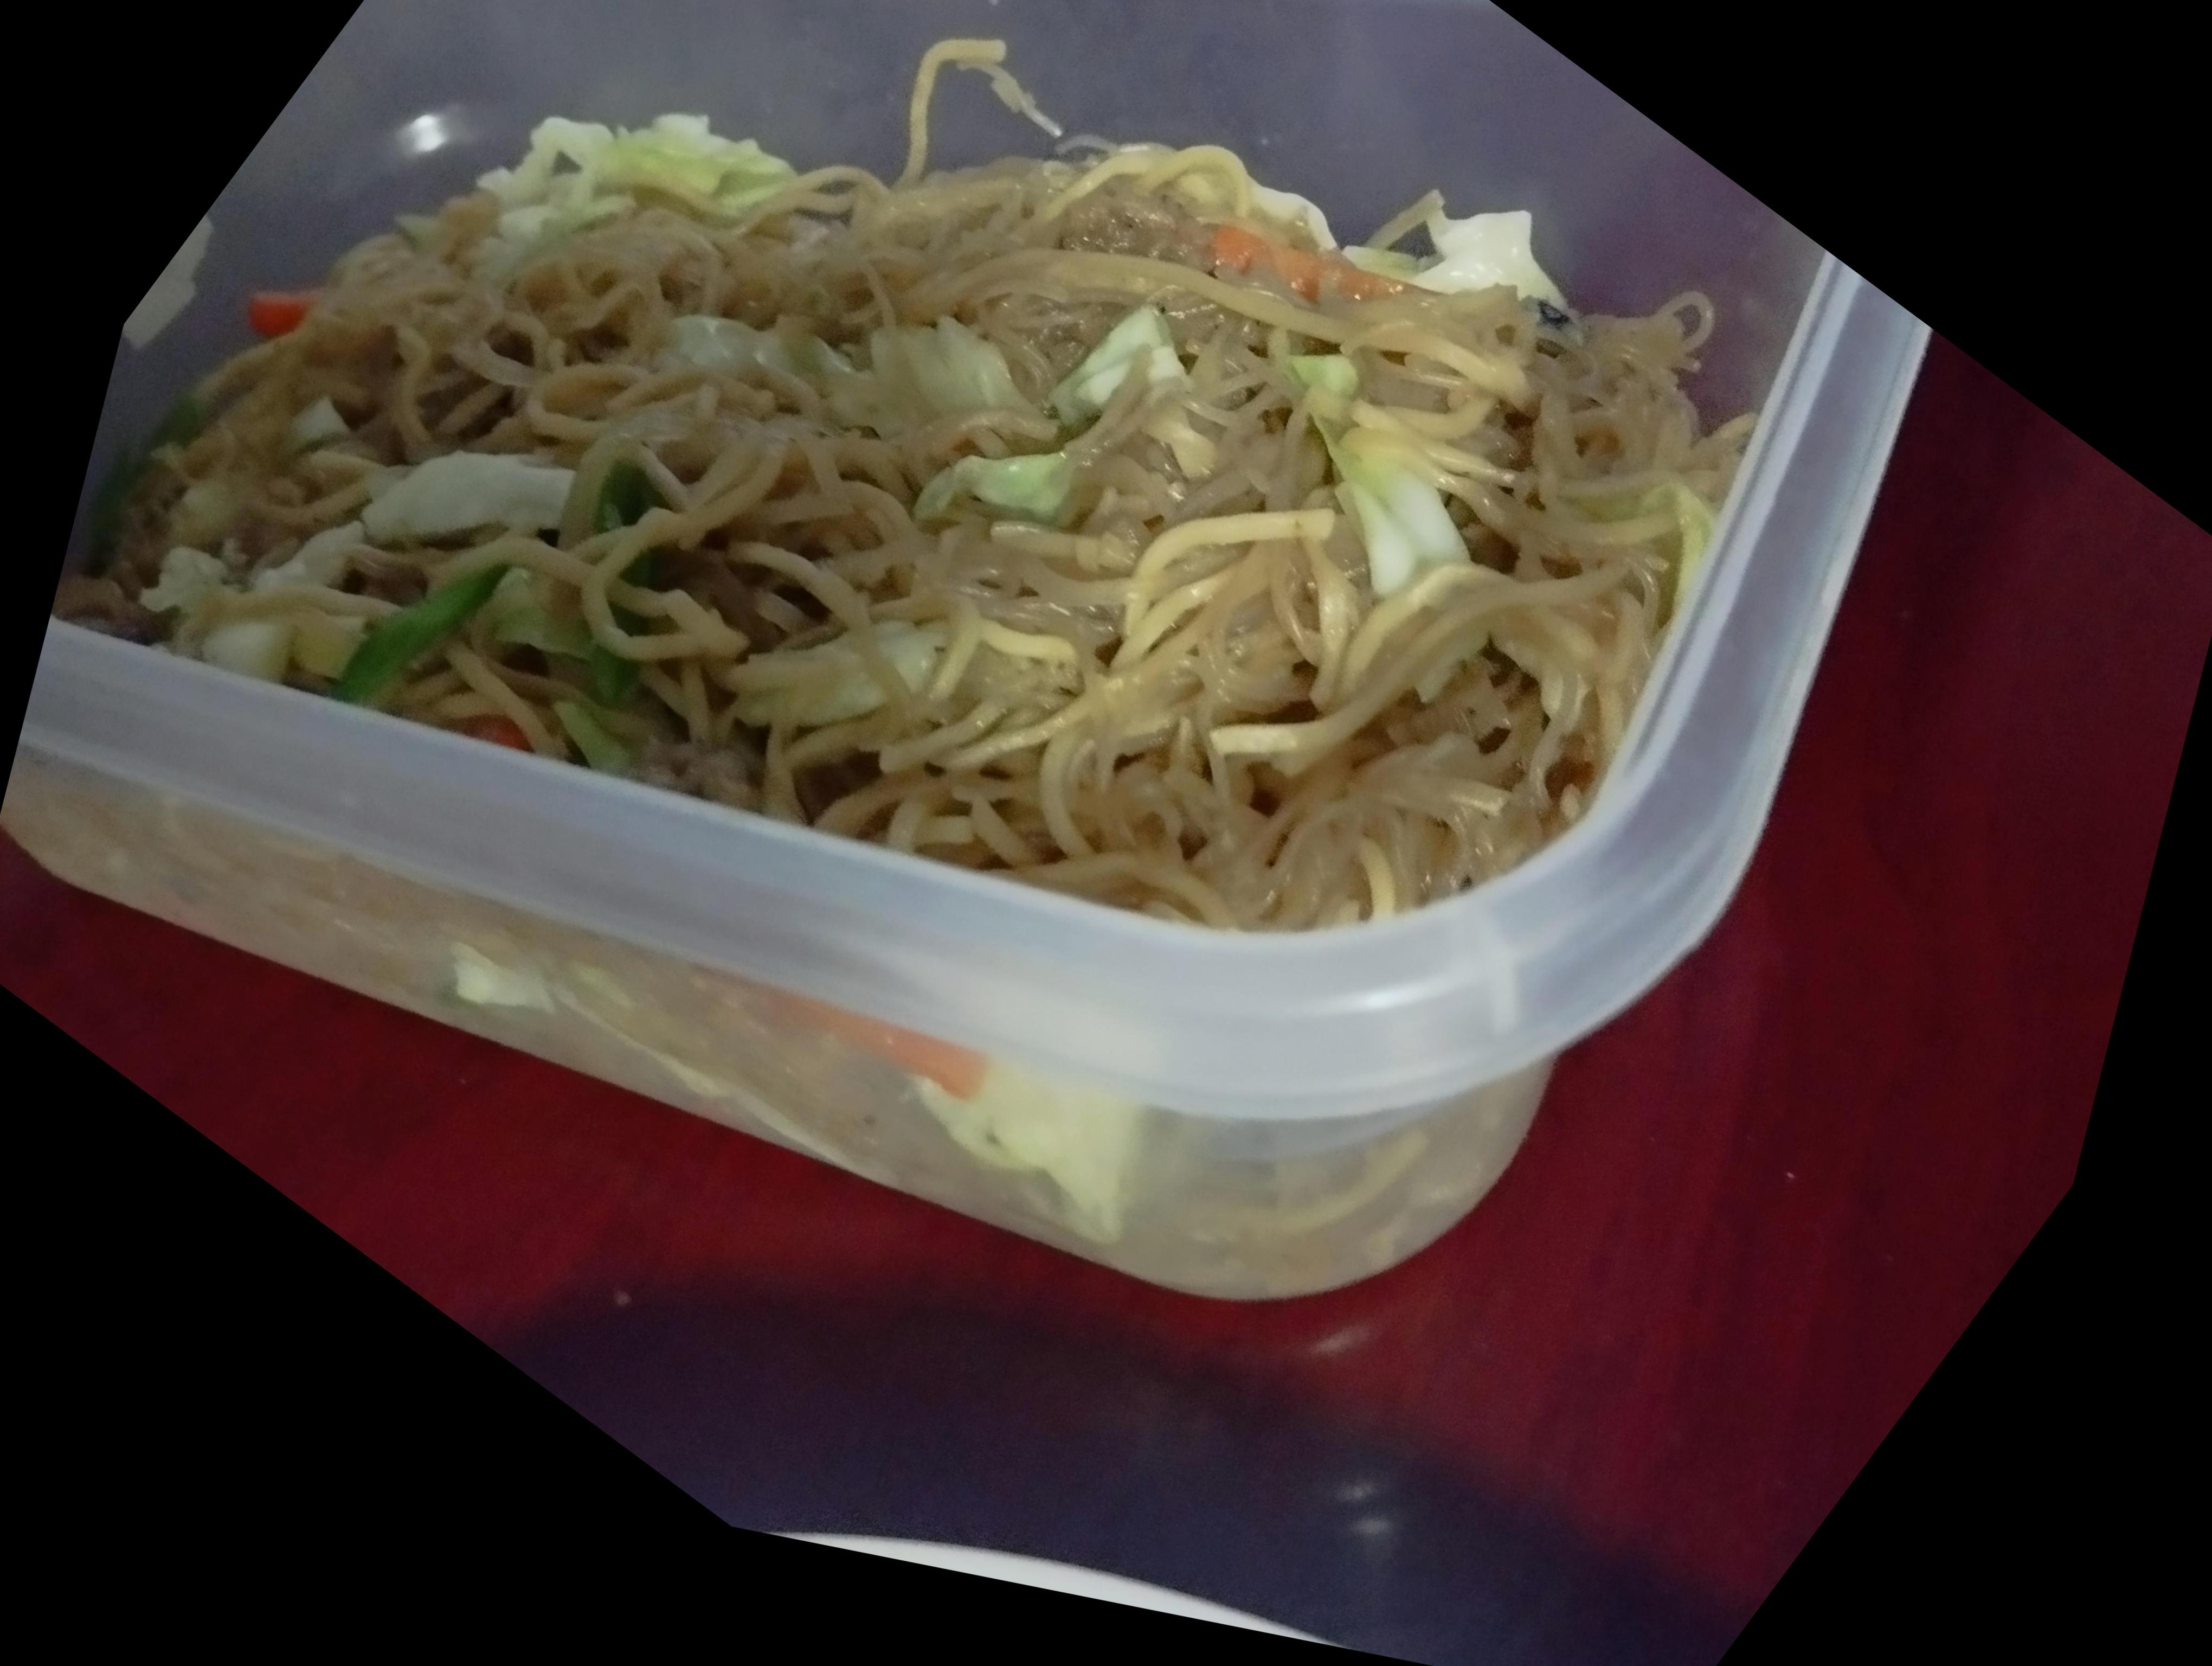pancit bihon: (45, 124, 1738, 949)
